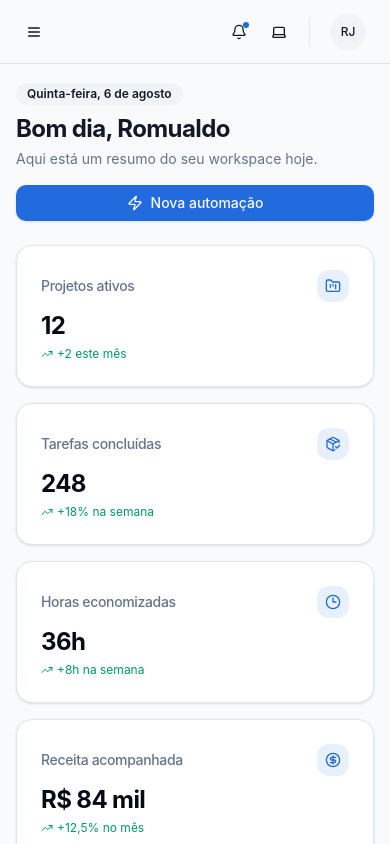
it: Dashboard › abre a navegação compacta pelo botão de menu
Click the button named "Abrir menu": (34, 32) [16, 14, 52, 50]
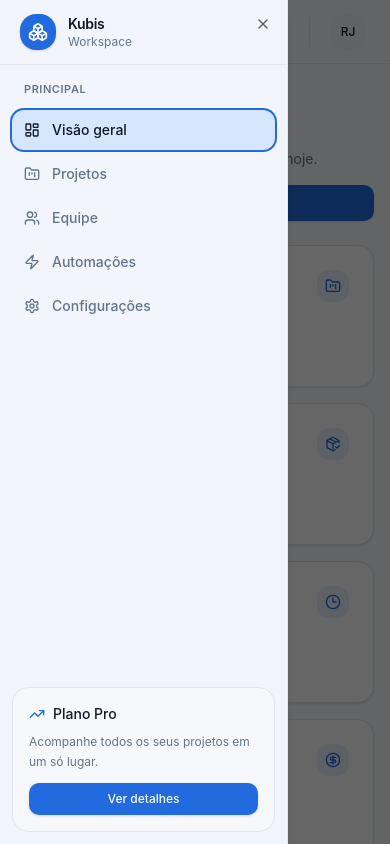
Expected: the dialog named "Menu principal" is shown
